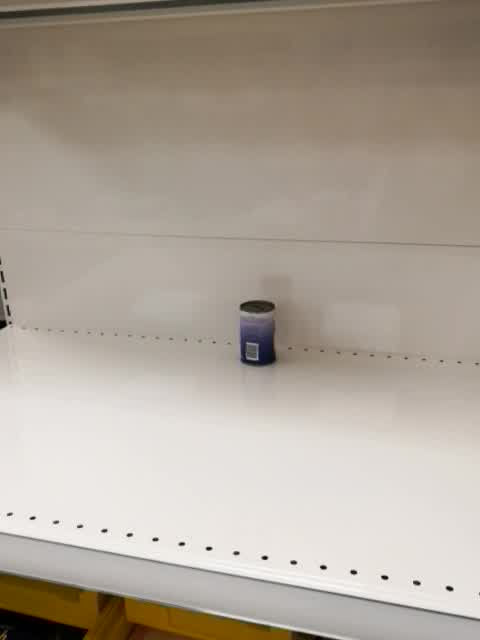sardine: (237, 298, 278, 369)
